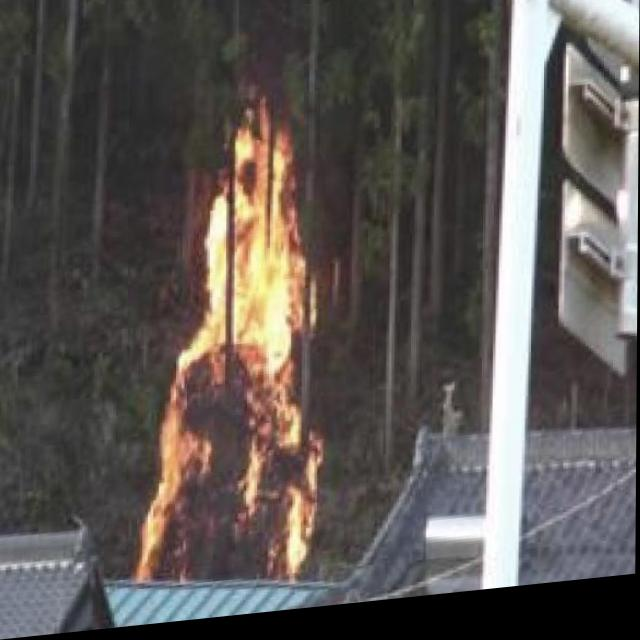Fire: (138, 114, 320, 602)
